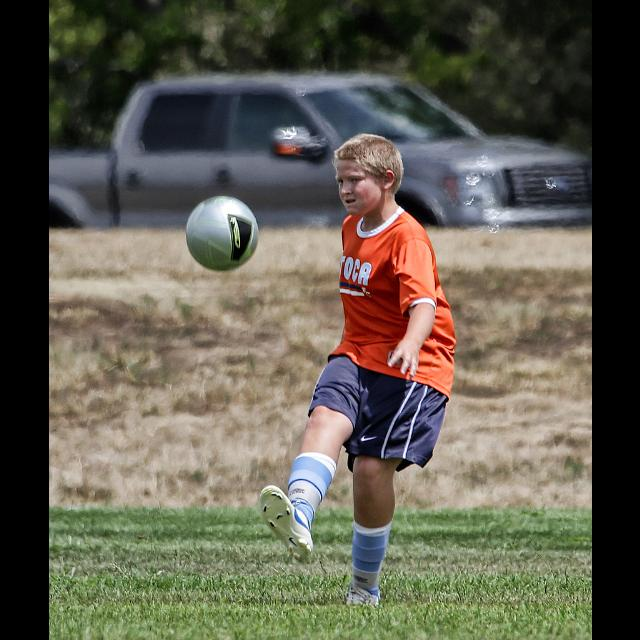Football: (182, 192, 260, 274)
